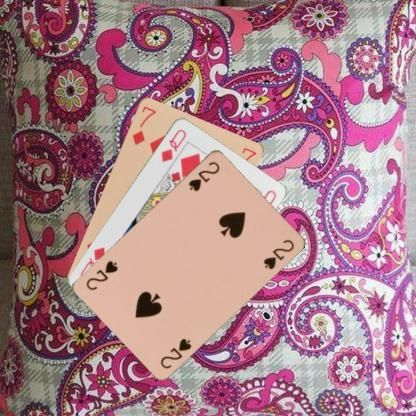2s: (158, 335, 193, 370), (186, 158, 220, 192)
7d: (130, 103, 157, 146)
Qd: (158, 126, 188, 163)
